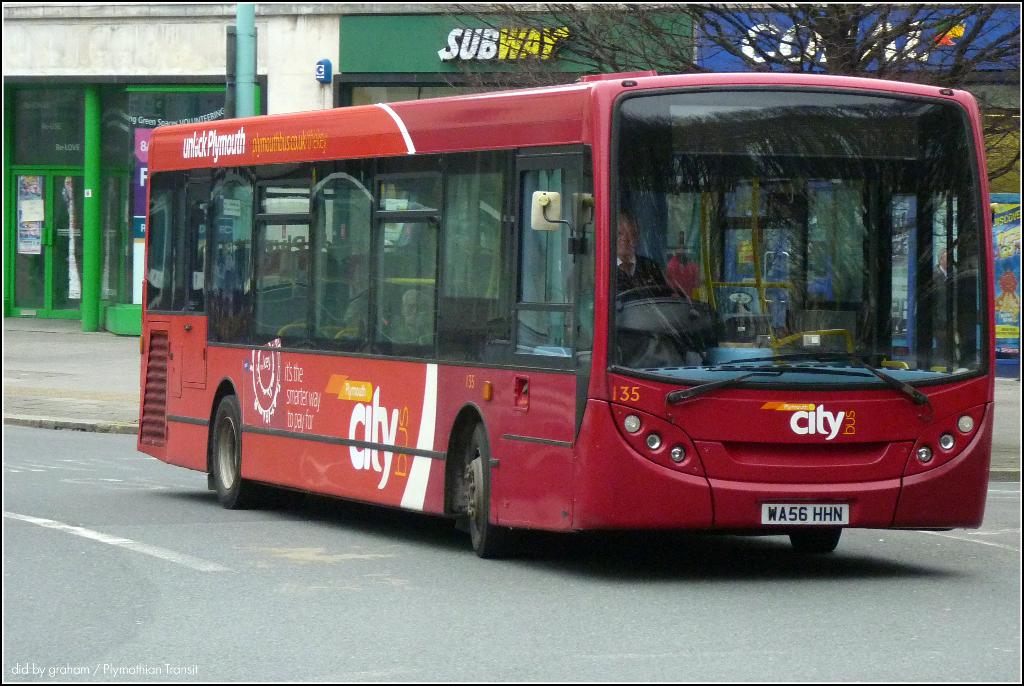Bus: (132, 69, 1000, 565)
